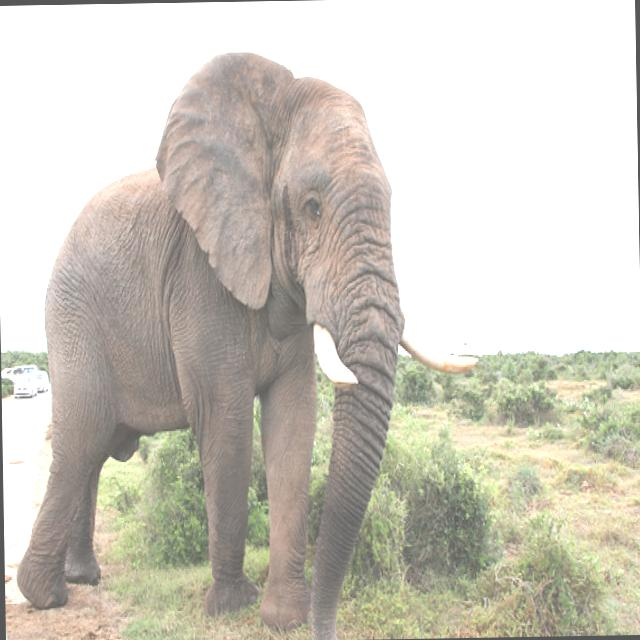Vehicle: (12, 371, 38, 398), (33, 370, 49, 392), (1, 366, 20, 383)
